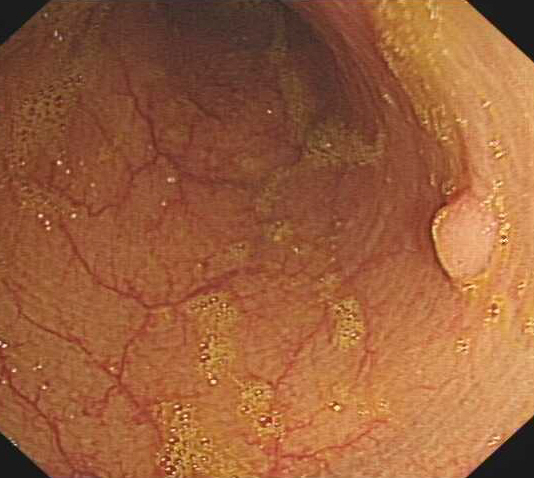adenoma: (427, 197, 497, 278)
